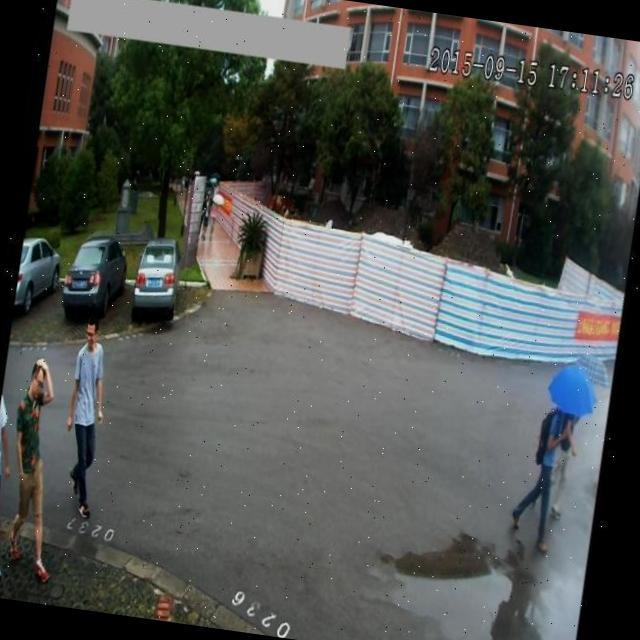person: (0, 354, 82, 597), (51, 316, 120, 522), (506, 357, 574, 564), (548, 366, 600, 522)
